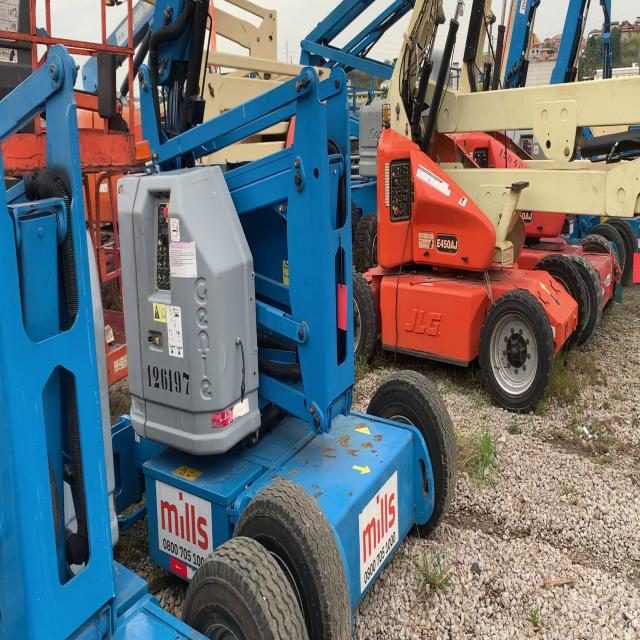Adesivos: (358, 468, 401, 598), (155, 477, 213, 570)
